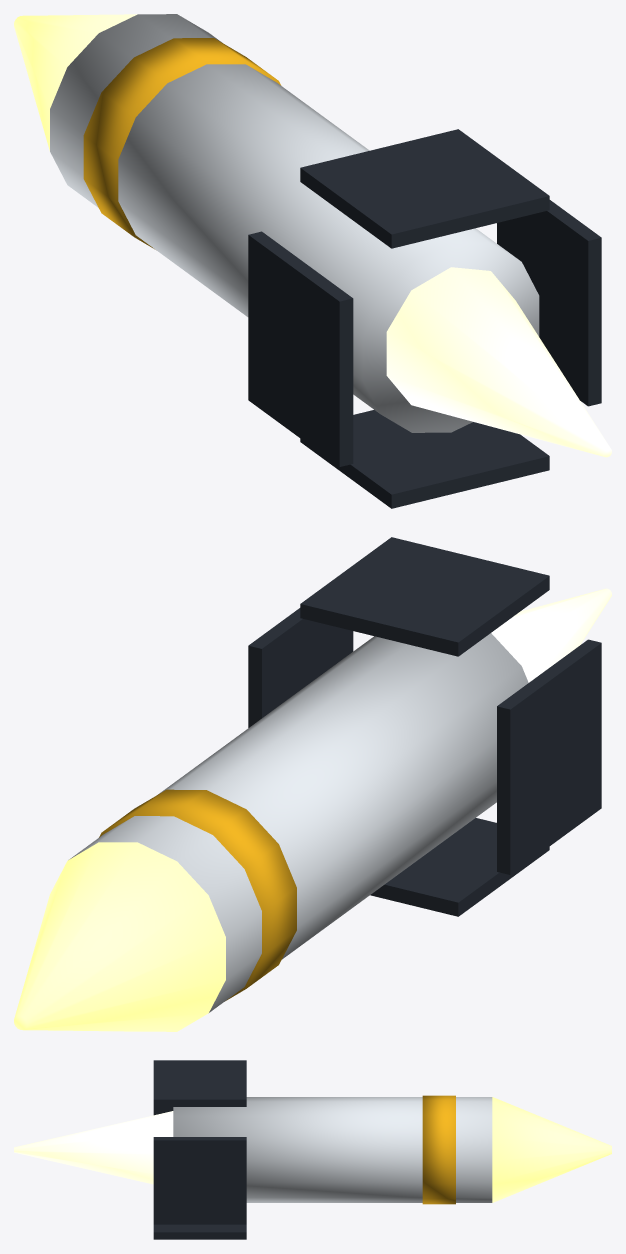
File: Missile.fbx
3 renders of one model, top to bottom at view 1: azimuth 30°, elevation 25°; view 2: azimuth 150°, elevation 25°; view 3: azimuth 270°, elevation 25°, orthographic. The views are drawn at different scales.
Parts seen in each view (by area): view 1: Panel_Body0.001, Flame_Exhaust0, Metal_Fin2.001, Metal_Fin1.001, Metal_Fin3, Metal_Fin0.001, Hazard_Band0.001, Emit_Nose0; view 2: Panel_Body0.001, Emit_Nose0, Metal_Fin2.001, Metal_Fin1.001, Hazard_Band0.001, Metal_Fin3, Metal_Fin0.001, Flame_Exhaust0; view 3: Panel_Body0.001, Metal_Fin0.001, Emit_Nose0, Flame_Exhaust0, Metal_Fin1.001, Hazard_Band0.001, Metal_Fin3.
Part boxes in pixels (x1,y1,x2,y2): Panel_Body0.001: (50,14,539,432); Flame_Exhaust0: (386,267,611,457); Metal_Fin2.001: (248,231,353,466); Metal_Fin1.001: (300,129,549,248); Metal_Fin3: (300,410,549,508); Metal_Fin0.001: (497,200,601,406); Hazard_Band0.001: (83,38,281,249); Emit_Nose0: (14,14,137,150); Panel_Body0.001: (69,633,528,1012); Emit_Nose0: (14,842,225,1031); Metal_Fin2.001: (497,639,601,874); Metal_Fin1.001: (300,537,549,656); Hazard_Band0.001: (99,789,296,1000); Metal_Fin3: (370,818,549,916); Metal_Fin0.001: (248,608,353,727); Flame_Exhaust0: (491,588,611,682); Panel_Body0.001: (173,1097,492,1202); Metal_Fin0.001: (153,1137,246,1224); Emit_Nose0: (492,1097,611,1202); Flame_Exhaust0: (14,1111,173,1184); Metal_Fin1.001: (153,1060,246,1106); Hazard_Band0.001: (422,1095,455,1204); Metal_Fin3: (153,1224,246,1239).
Size of the model in its own units: 0.116 by 0.45 by 0.116.
